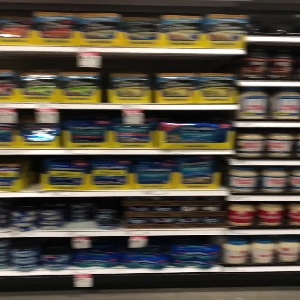void: (249, 1, 300, 38), (62, 200, 98, 230)
